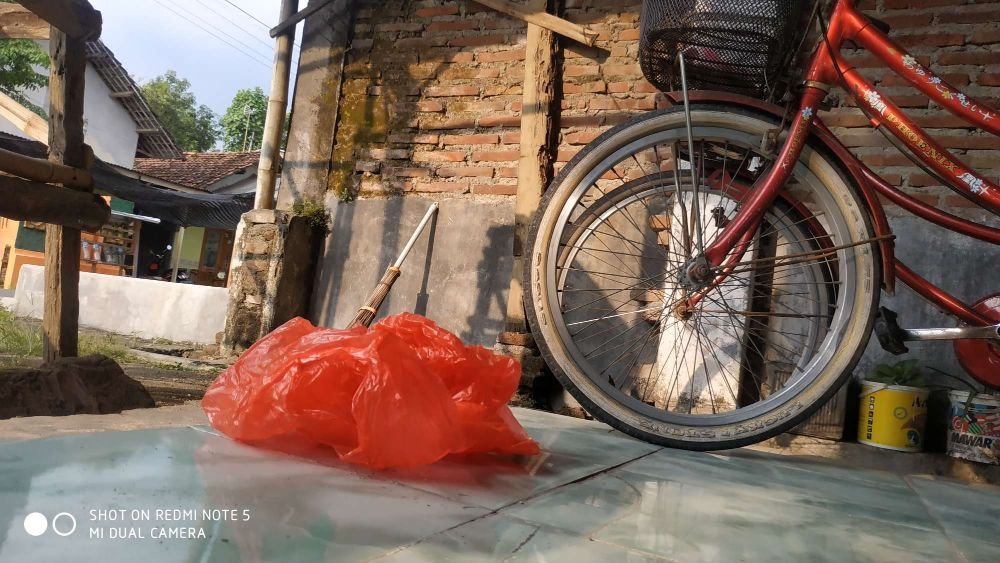plastik: (192, 289, 550, 476)
